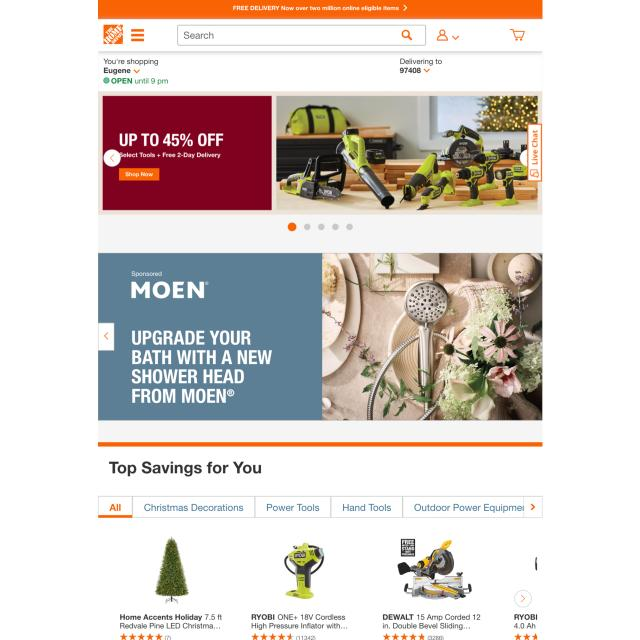CheckBox: (119, 168, 159, 180)
CheckedTextView: (176, 24, 428, 46)
ImageView: (100, 251, 542, 420)
ProgressBar: (97, 0, 543, 20)
alert: (433, 27, 465, 48), (100, 64, 142, 74), (397, 66, 430, 75)
bag: (99, 0, 543, 52)
carousel: (508, 26, 529, 44), (398, 28, 414, 43), (434, 29, 448, 44), (451, 34, 462, 41), (107, 154, 116, 162)
data feed: (122, 169, 154, 179)
date picker: (101, 23, 126, 46)
decoration: (98, 495, 543, 519), (103, 150, 120, 168), (130, 26, 146, 44)
dropdown: (100, 92, 542, 236), (286, 220, 356, 234)
footer: (182, 30, 219, 41)
